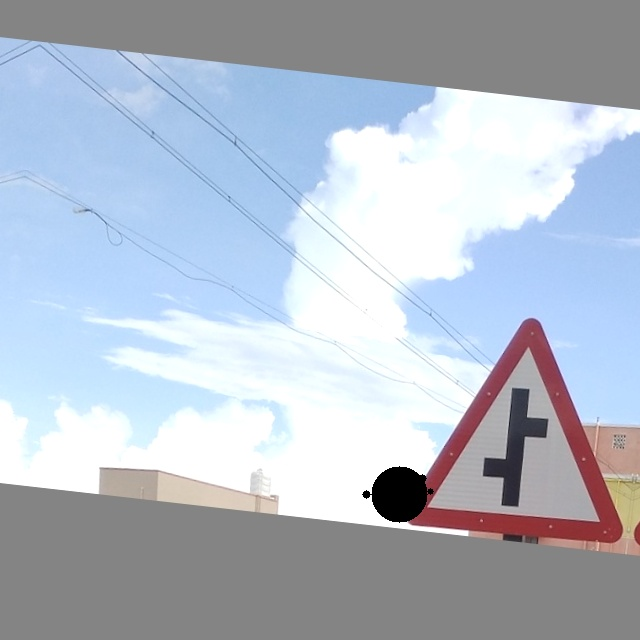Staggered_Intersection: (390, 305, 639, 541)
